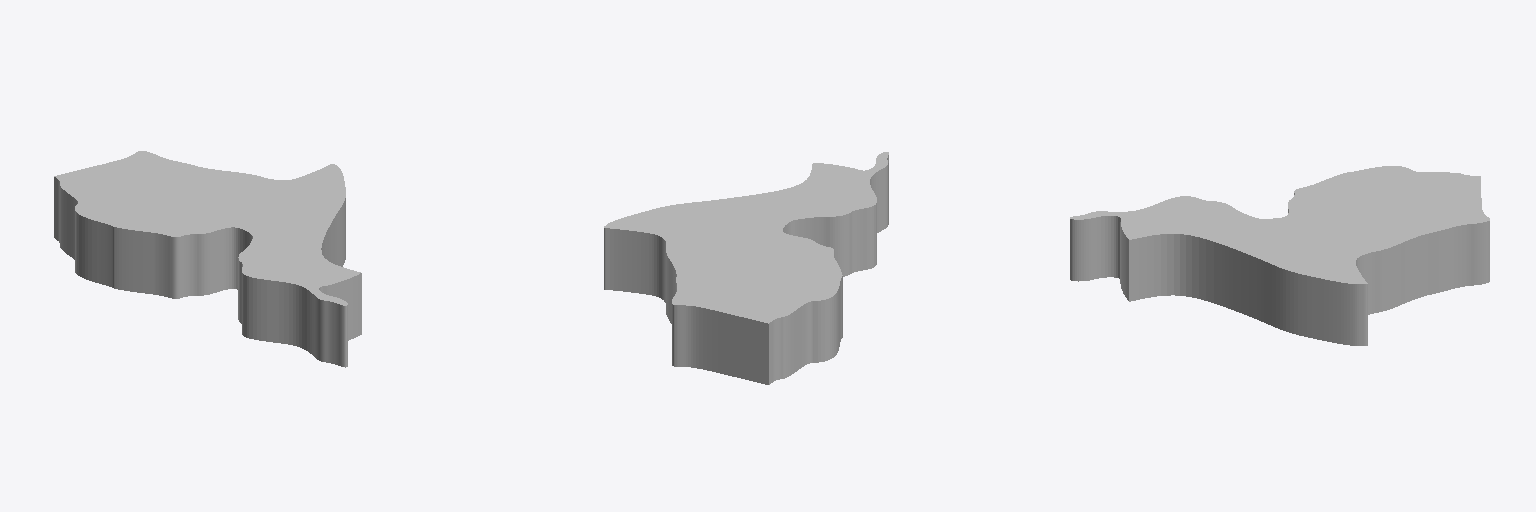
The model's file is Africa_02.obj.
3 renders of one model, left to right at view 1: azimuth 30°, elevation 25°; view 2: azimuth 150°, elevation 25°; view 3: azimuth 270°, elevation 25°, orthographic.
Visible parts, largest first — view 1: Africa_02_path4222; view 2: Africa_02_path4222; view 3: Africa_02_path4222.
Boxes of the visible parts, <box> form: Africa_02_path4222: <box>54,151,361,367</box>; Africa_02_path4222: <box>604,152,888,384</box>; Africa_02_path4222: <box>1070,166,1489,345</box>.
Size of the model in its own units: 0.4122 by 0.1 by 0.6176.